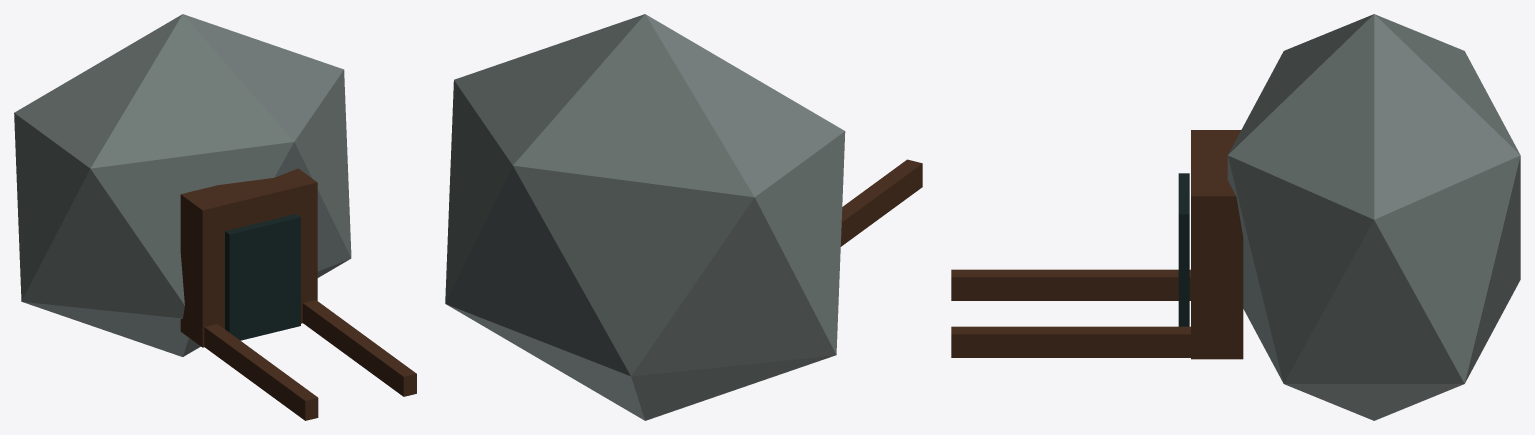
File: mine.glb
3 views of the same model, side by side, from view 1: azimuth 30°, elevation 25°; view 2: azimuth 150°, elevation 25°; view 3: azimuth 270°, elevation 25° (orthographic). The views are drawn at different scales.
Parts seen in each view (by area): view 1: mine; view 2: mine; view 3: mine.
Boxes of the visible parts, x1,y1,x2,y2 form: mine: (14,14,416,420); mine: (445,14,922,420); mine: (951,14,1520,420).
Size of the model in its own units: 0.5903 by 0.6 by 0.7606.
